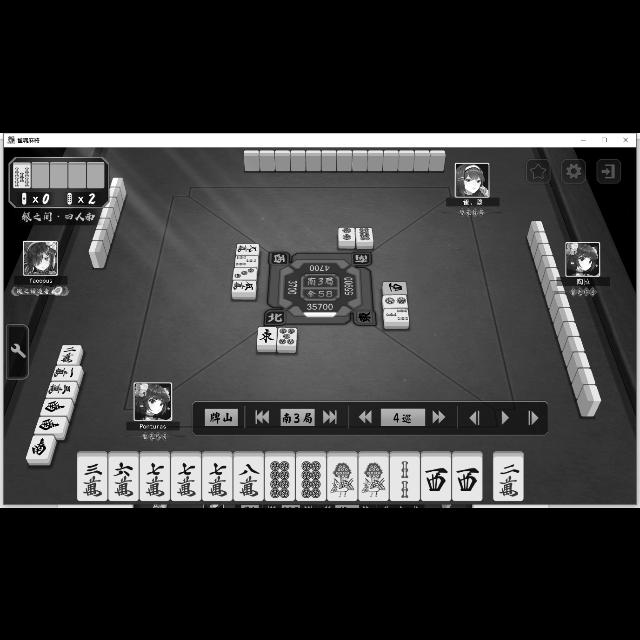1m: (50, 364, 82, 380)
1s: (328, 456, 358, 500), (358, 456, 388, 500)
2m: (494, 456, 524, 500), (56, 344, 82, 364)
2p: (382, 294, 408, 308), (338, 228, 354, 240)
2s: (390, 456, 420, 500)
3m: (77, 456, 107, 500), (46, 380, 76, 398)
3p: (233, 267, 257, 279)
3s: (383, 308, 409, 322), (234, 254, 258, 266)
5m: (232, 280, 256, 292)
5p: (278, 327, 296, 345)
5s: (14, 165, 31, 188)
6m: (109, 456, 139, 502)
7m: (140, 456, 170, 500), (202, 456, 232, 499), (171, 458, 201, 500)
8m: (233, 456, 264, 500)
8p: (296, 456, 326, 500), (265, 458, 295, 500), (356, 227, 374, 241)
9m: (236, 243, 258, 254)
nan: (26, 436, 54, 458), (34, 416, 66, 432), (41, 399, 71, 415)
sha: (422, 456, 452, 500), (453, 456, 482, 500), (382, 281, 408, 293)
tou: (258, 327, 276, 345)
